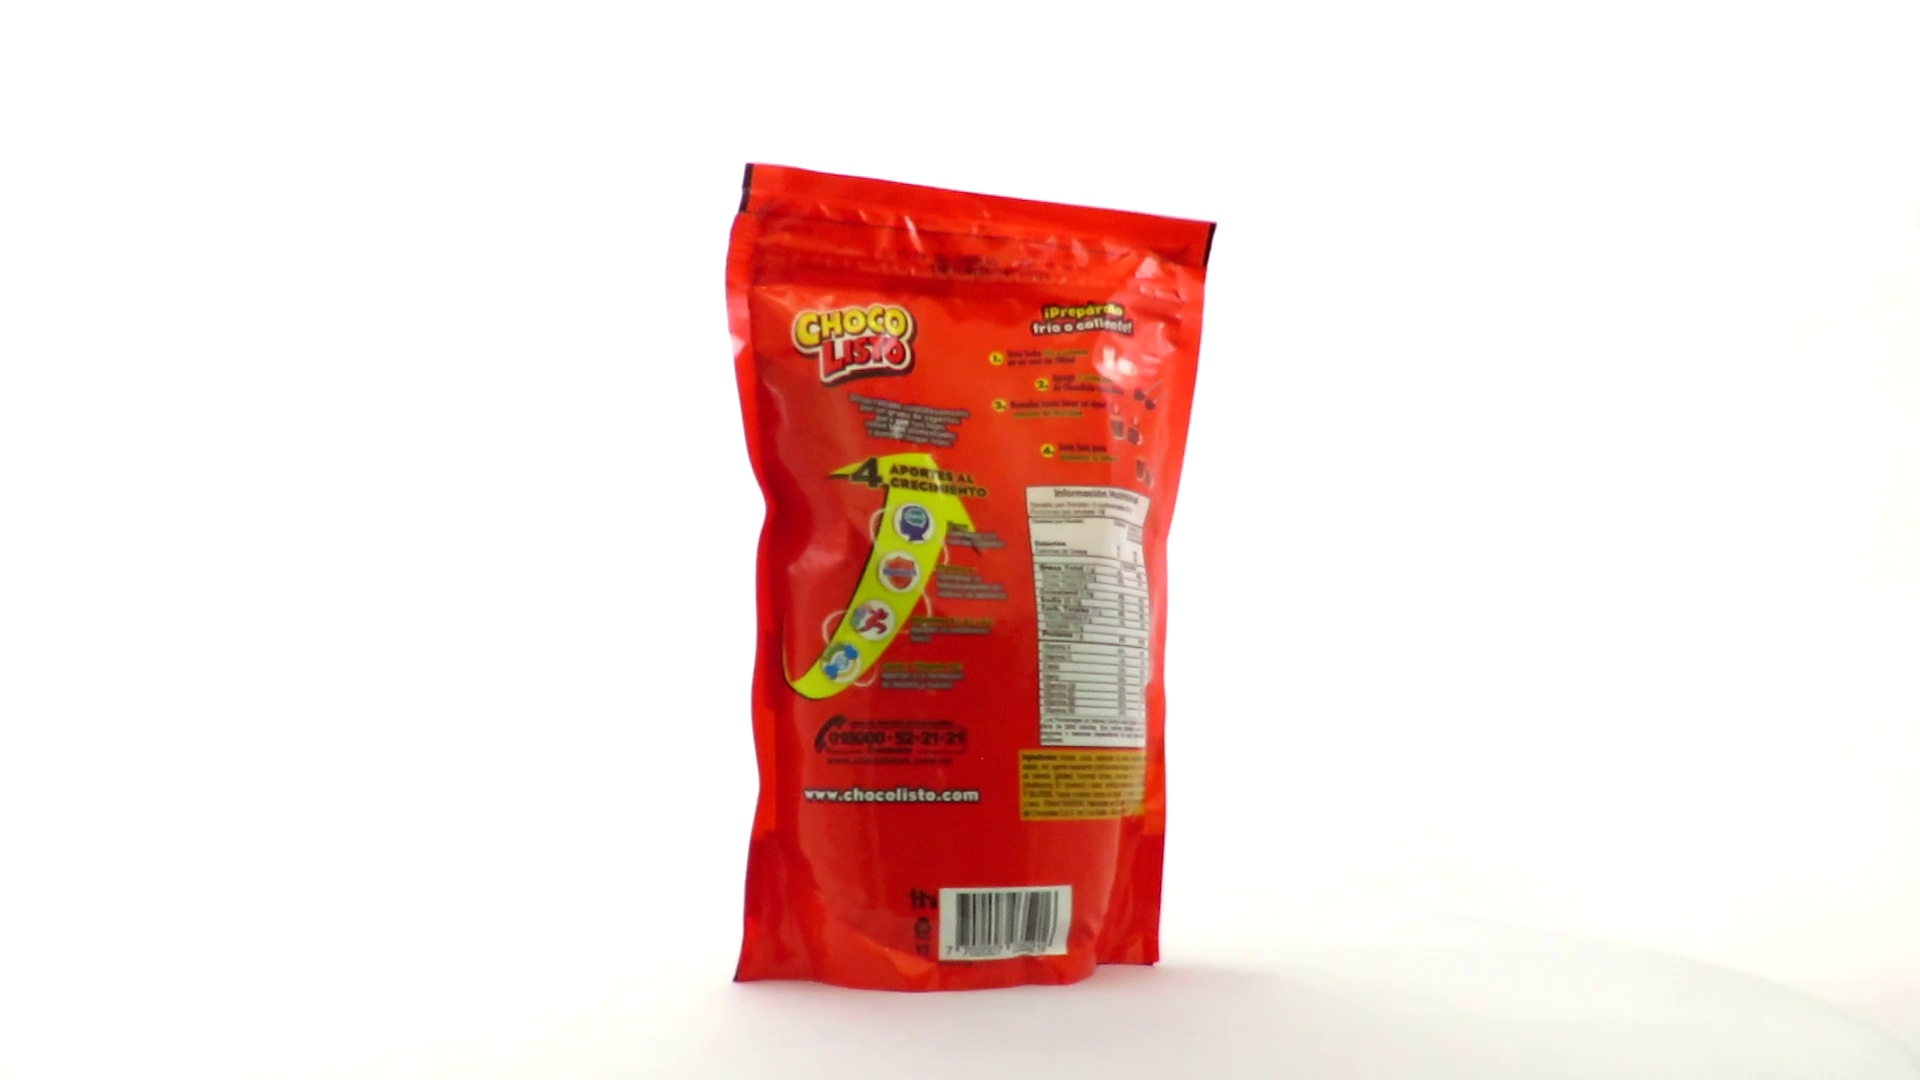COL0170103DYP36000: (720, 158, 1222, 1000)
